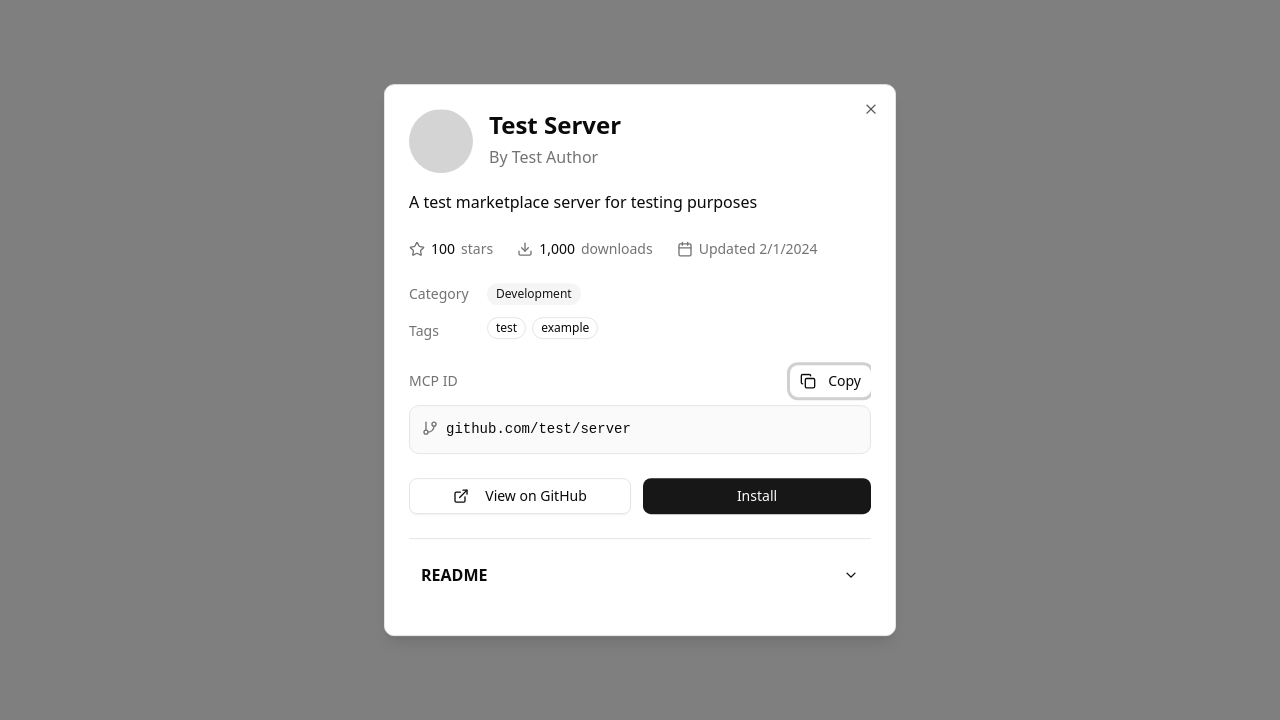
Scenario: MarketplaceServerDetail › Installation › shows installing state during installation
Click the button "Install". click: (757, 496)
box: [643,478,871,514]
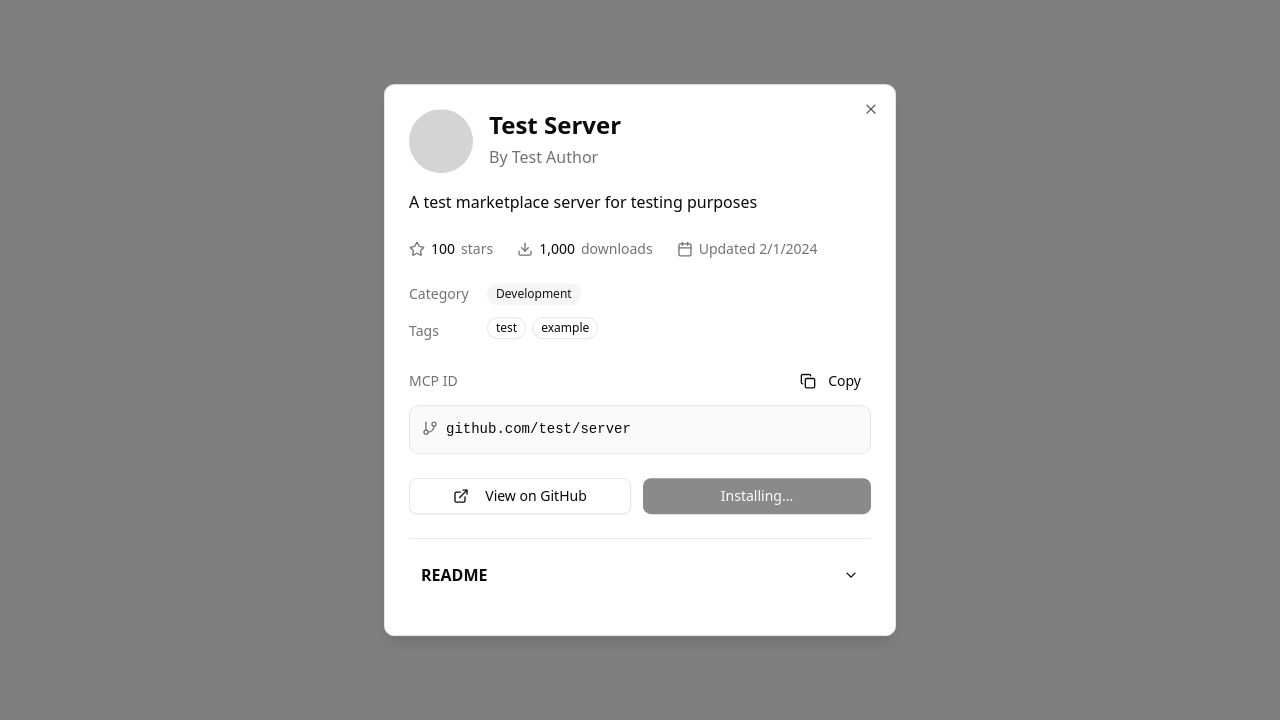
Now the button "Installing..." is disabled, box [643,478,871,514]
